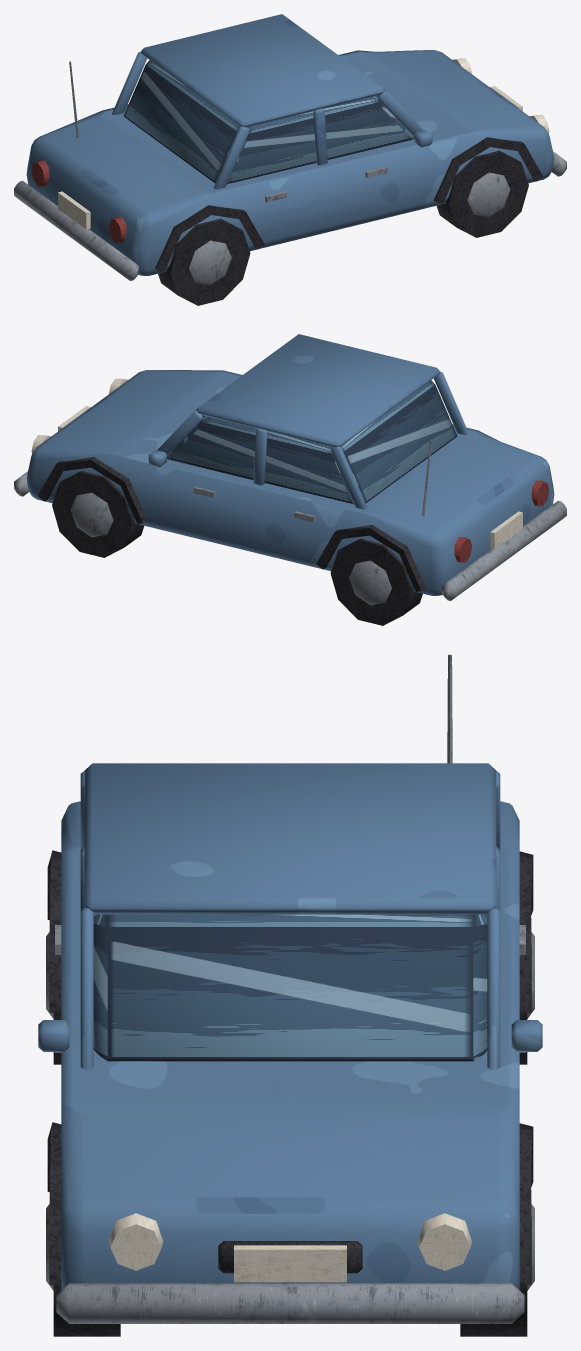
File: car_sedan.glb
3 renders of one model, top to bottom at view 1: azimuth 30°, elevation 25°; view 2: azimuth 150°, elevation 25°; view 3: azimuth 270°, elevation 25°, orthographic. The views are drawn at different scales.
Parts seen in each view (by area): view 1: Car; view 2: Car; view 3: Car.
Boxes of the visible parts, bbox=[...] form: Car: bbox=[14, 14, 566, 305]; Car: bbox=[14, 334, 566, 625]; Car: bbox=[38, 654, 542, 1336].
Bounding box in the file's own units: 3.97 × 1.53 × 1.96.
Materials: 4 (4 with a texture image).
